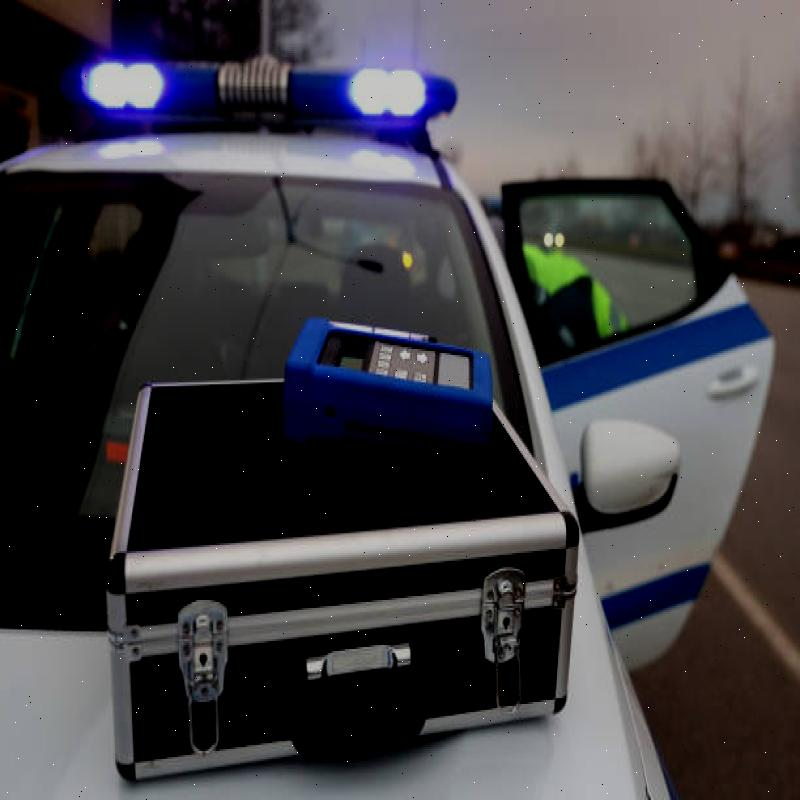AmbulanceSiren: (66, 38, 474, 187)
